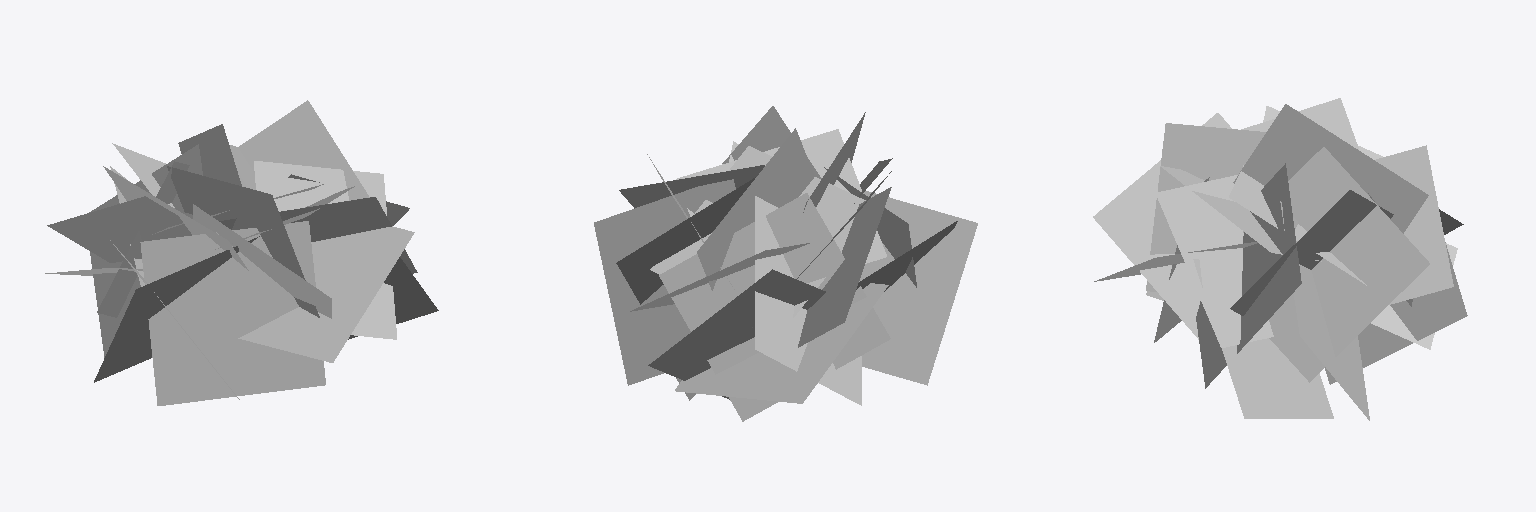
Rendered from bush.obj.
3 renders of one model, left to right at view 1: azimuth 30°, elevation 25°; view 2: azimuth 150°, elevation 25°; view 3: azimuth 270°, elevation 25°, orthographic.
Parts seen in each view (by area): view 1: bush; view 2: bush; view 3: bush.
Boxes of the visible parts, <box> form: bush: <box>45,100,438,405</box>; bush: <box>594,106,977,421</box>; bush: <box>1093,98,1467,420</box>.
Bounding box in the file's own units: 2.68 × 2.14 × 2.64.